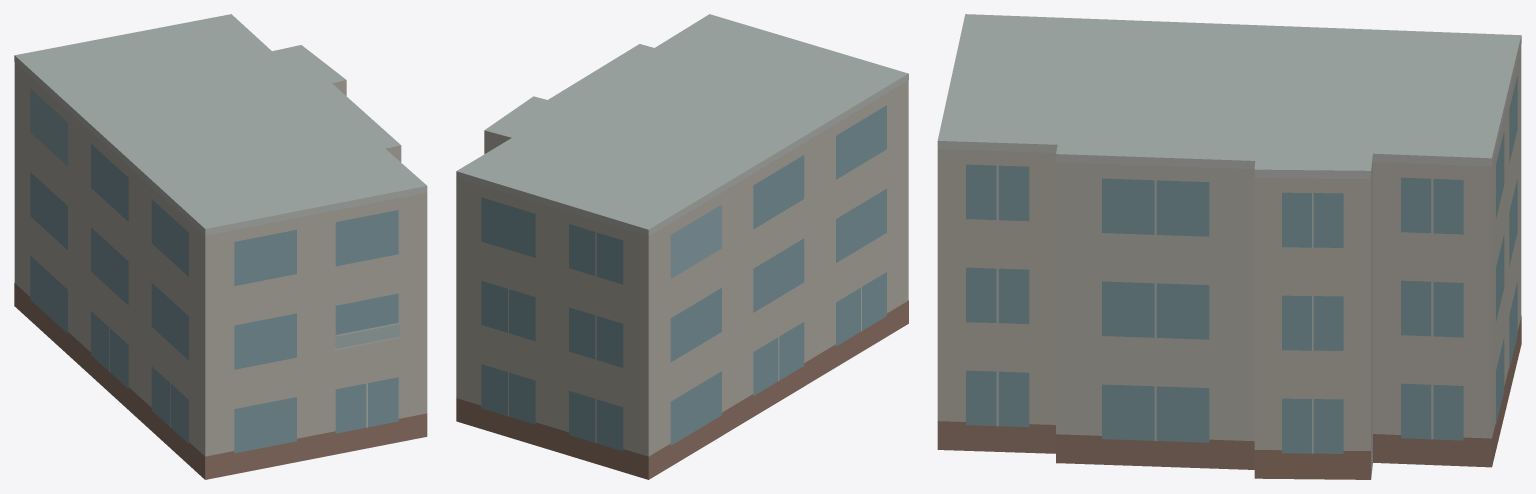
Rendered from survey-upis-32581192.glb.
3 renders of one model, left to right at view 1: azimuth 30°, elevation 25°; view 2: azimuth 150°, elevation 25°; view 3: azimuth 270°, elevation 25°, orthographic. The views are drawn at different scales.
Visible parts, largest first — view 1: survey-upis-32581192.tmp; view 2: survey-upis-32581192.tmp; view 3: survey-upis-32581192.tmp.
Part boxes in pixels (x1,y1,x2,y2): survey-upis-32581192.tmp: [14, 14, 427, 479]; survey-upis-32581192.tmp: [456, 14, 908, 479]; survey-upis-32581192.tmp: [937, 14, 1521, 479].
Size of the model in its own units: 9.97 by 9.15 by 15.68.
